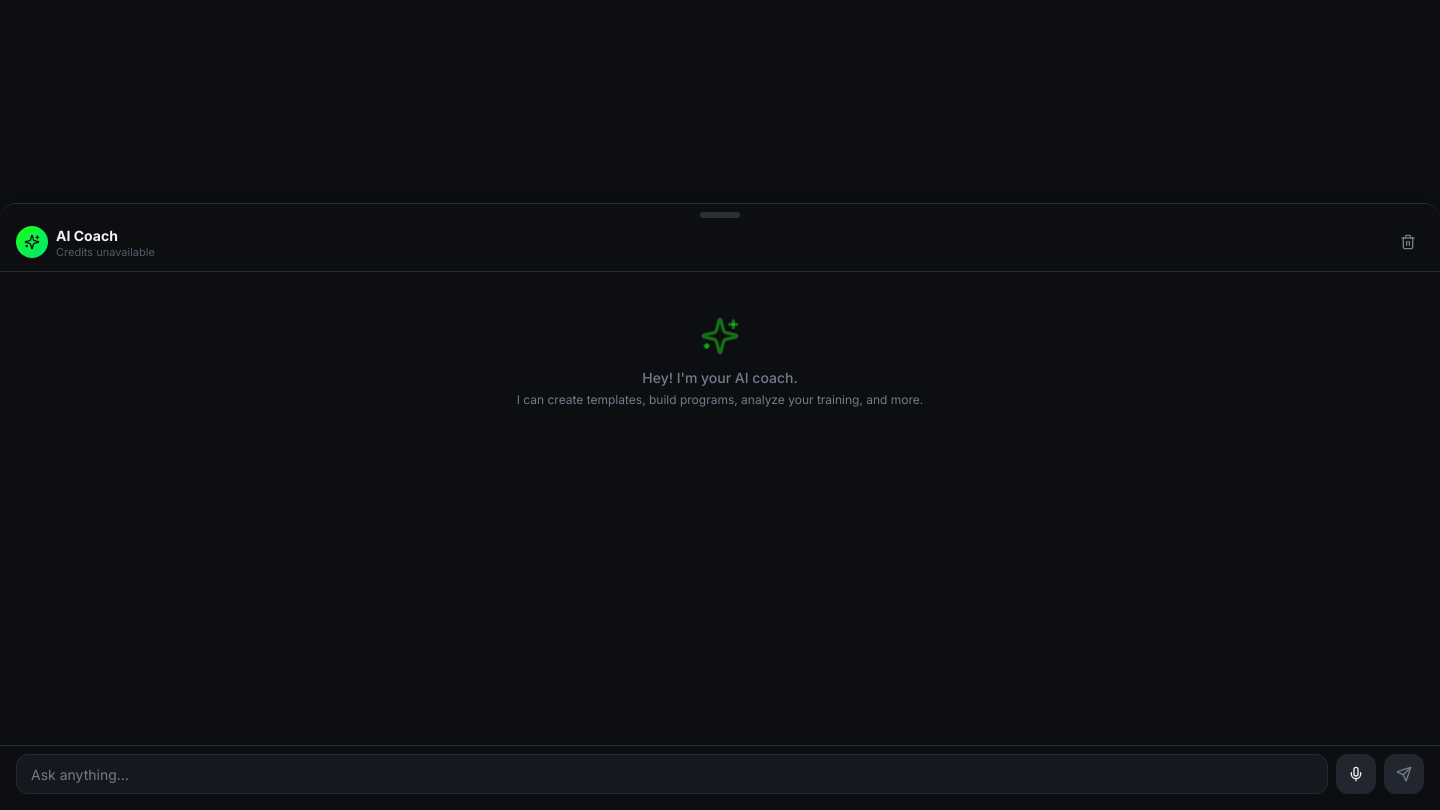
Scenario: AI coach voice input › writes a sentence once, however often the browser lists it
The image size is (1440, 810).
Click the button named "Start voice input": click(1356, 774) [1336,754,1376,794]
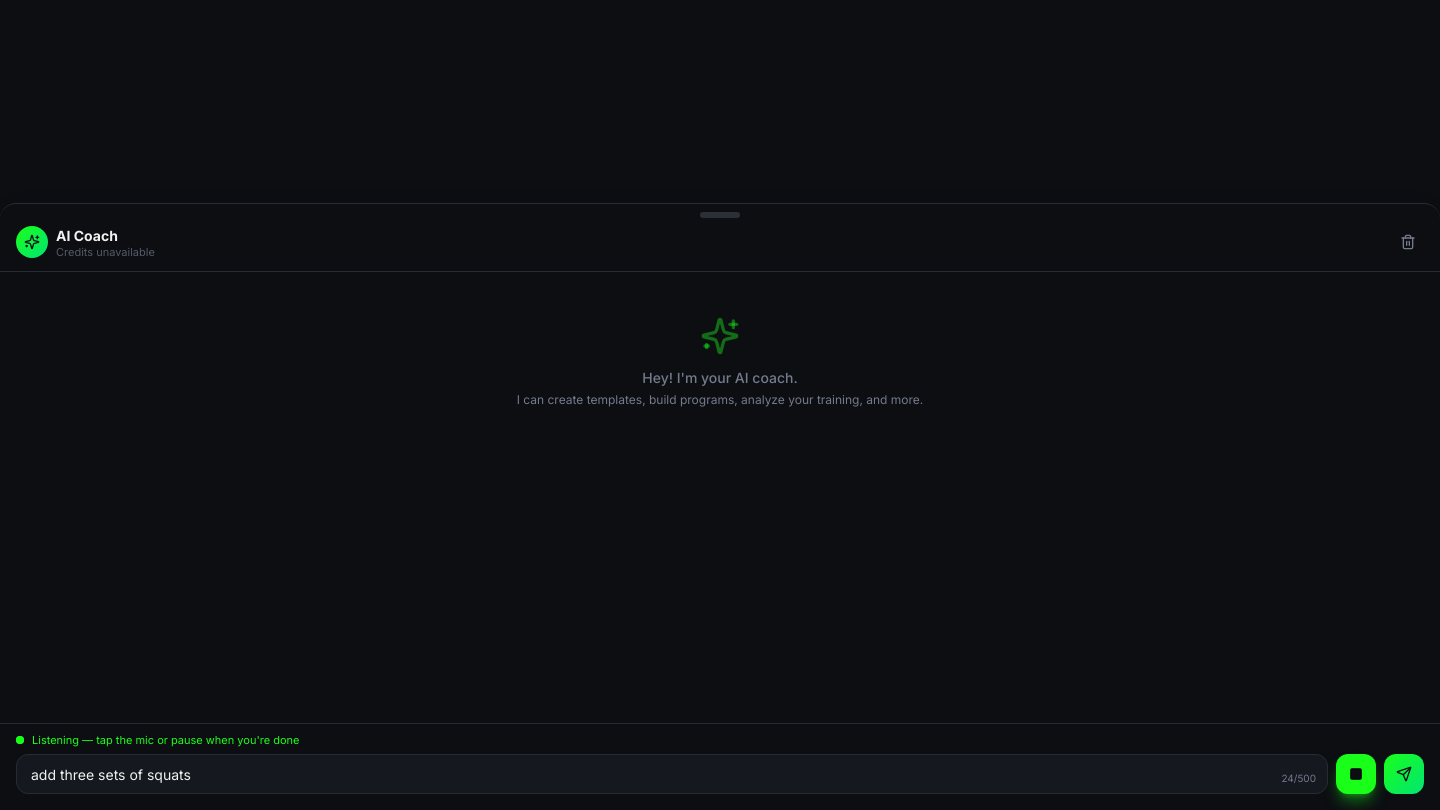
Result: the text box holds "add three sets of squats" at [16,754,1328,794]
